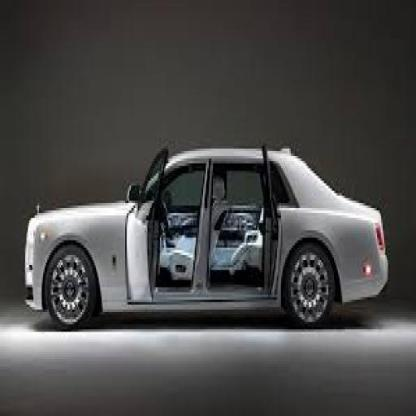car: (16, 136, 395, 335)
